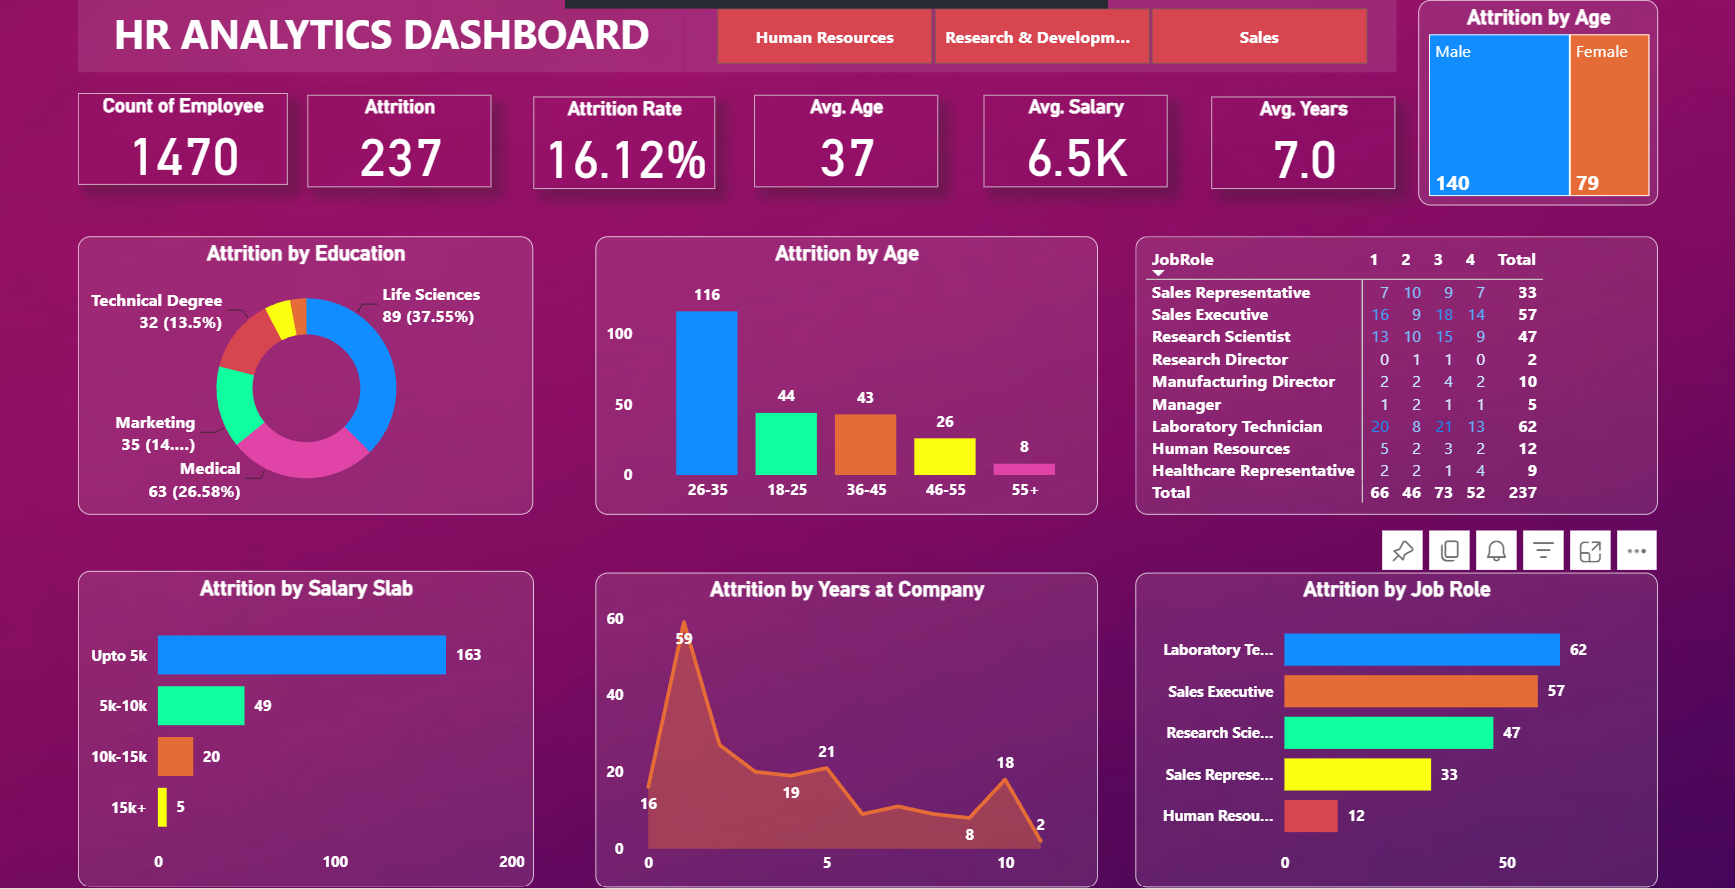

What the dashboard file says about the page in this screenshot:
{"tool":"powerbi","page":{"name":"HR Dashboard","canvas":[1280,720],"ordinal":0},"visuals":[{"type":"card","title":"Count of Employee","fields":{"Values":["CountNonNull(HR_Analytics.EmpID)"]},"box":[0,76,169.7,74.2],"z":0},{"type":"card","title":"Attrition","fields":{"Values":["Sum(HR_Analytics.Attrition Count)"]},"box":[185.4,76.6,149.1,74.5],"z":1000},{"type":"card","title":"Attrition Rate","fields":{"Values":["HR_Analytics.AttritionRate"]},"box":[368.7,78.6,147.1,74.5],"z":2000},{"type":"card","title":"Avg. Age","fields":{"Values":["Avg(HR_Analytics.Age)"]},"box":[548,76.6,149.1,74.5],"z":3000},{"type":"card","title":"Avg. Salary","fields":{"Values":["Avg(HR_Analytics.MonthlyIncome)"]},"box":[733.3,76.6,149.1,74.5],"z":4000},{"type":"card","title":"Avg. Years","fields":{"Values":["Avg(HR_Analytics.YearsAtCompany)"]},"box":[918.7,78.6,149.1,74.5],"z":5000},{"type":"donutChart","title":"Attrition by Education","fields":{"Category":["HR_Analytics.EducationField"],"Y":["Sum(HR_Analytics.Attrition Count)"]},"box":[0,191.4,368.7,225.6],"z":6000},{"type":"clusteredColumnChart","title":"Attrition by Age","fields":{"Category":["HR_Analytics.AgeGroup"],"Y":["Sum(HR_Analytics.Attrition Count)"]},"box":[419.1,191.4,407,225.6],"z":7000},{"type":"pivotTable","fields":{"Columns":["HR_Analytics.JobSatisfaction"],"Rows":["HR_Analytics.JobRole"],"Values":["Sum(HR_Analytics.Attrition Count)"]},"box":[856.2,191.4,423.1,225.6],"z":8000},{"type":"clusteredBarChart","title":"Attrition by Salary Slab","fields":{"Category":["HR_Analytics.SalarySlab"],"Y":["Sum(HR_Analytics.Attrition Count)"]},"box":[0,463.1,369.4,256.3],"z":9000},{"type":"clusteredBarChart","title":"Attrition by Job Role","fields":{"Category":["HR_Analytics.JobRole"],"Y":["Sum(HR_Analytics.Attrition Count)"]},"box":[856.2,463.4,423.1,255.9],"z":10000},{"type":"areaChart","title":"Attrition by Years at Company","fields":{"Category":["HR_Analytics.YearsAtCompany"],"Y":["Sum(HR_Analytics.Attrition Count)"]},"box":[419.1,463.4,407,255.9],"z":11000},{"type":"treemap","title":"Attrition by Age","fields":{"Group":["HR_Analytics.Gender"],"Values":["Sum(HR_Analytics.Attrition Count)"]},"box":[1085.2,0,194.4,166.1],"z":12000},{"type":"slicer","fields":{"Values":["HR_Analytics.Department"]},"box":[491.6,0,576.2,58.4],"z":13000},{"type":"textbox","box":[0,0,491.6,58.4],"z":14000}]}

Visuals, with their boxes on the page's 1280x720 design canvas (x1, y1, x2, y2). These are canvas units, not pixel positions in the 1735x889 screenshot, which may show the page scaled, cropped or inside an application window:
"Count of Employee" card: 0/76/170/150
"Attrition" card: 185/77/334/151
"Attrition Rate" card: 369/79/516/153
"Avg. Age" card: 548/77/697/151
"Avg. Salary" card: 733/77/882/151
"Avg. Years" card: 919/79/1068/153
"Attrition by Education" donutChart: 0/191/369/417
"Attrition by Age" clusteredColumnChart: 419/191/826/417
pivotTable - HR_Analytics.JobSatisfaction x HR_Analytics.JobRole: 856/191/1279/417
"Attrition by Salary Slab" clusteredBarChart: 0/463/369/719
"Attrition by Job Role" clusteredBarChart: 856/463/1279/719
"Attrition by Years at Company" areaChart: 419/463/826/719
"Attrition by Age" treemap: 1085/0/1280/166
slicer - HR_Analytics.Department: 492/0/1068/58
textbox: 0/0/492/58
